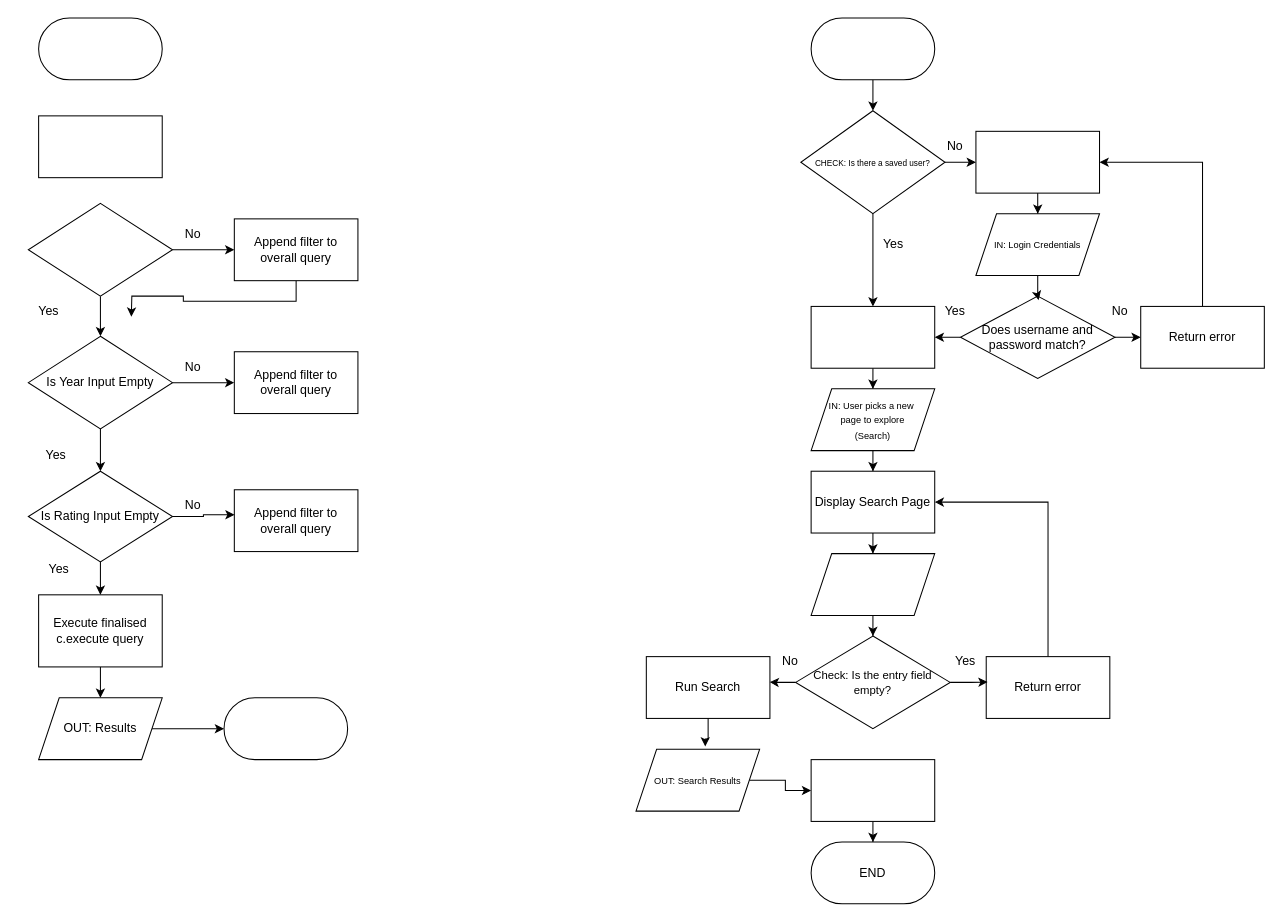
This 1282x922 diagram has some shape labels left out. The shapes that lost their labels are listed below. From the top down, each one's box as (x1, y1, x2, y2) in pixels, then its label:
(38, 17, 162, 80): START (RUN SEARCH)
(810, 17, 935, 80): START
(38, 115, 162, 178): Initialise Query String
(975, 130, 1100, 193): Display Login Page
(27, 202, 173, 296): Is Genre Input Empty
(810, 305, 935, 368): Display Home Page
(810, 553, 935, 615): IN: Search Query
(223, 697, 348, 760): END Search
(810, 759, 935, 821): User picks 'exit' or 'sign off'
